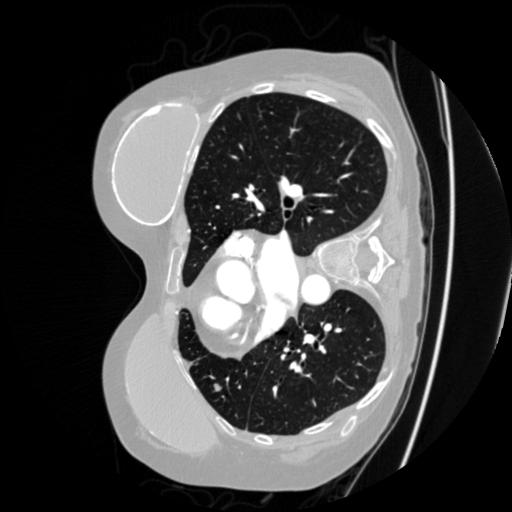nodule: (211, 379, 226, 394)
